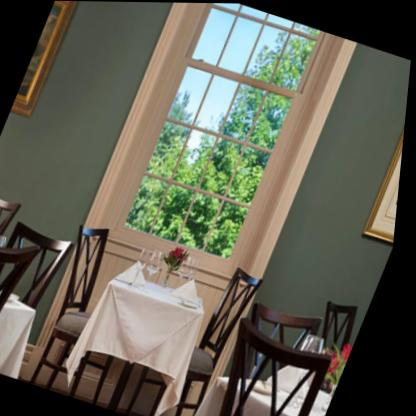Chair: (24, 210, 140, 393), (168, 258, 272, 416)
Table: (64, 258, 225, 416)
Window: (95, 1, 359, 283)
